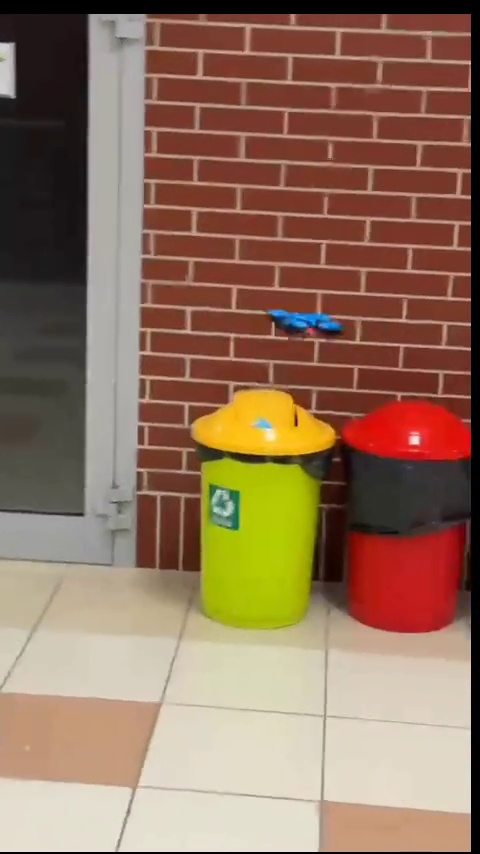drone: (263, 302, 345, 344)
